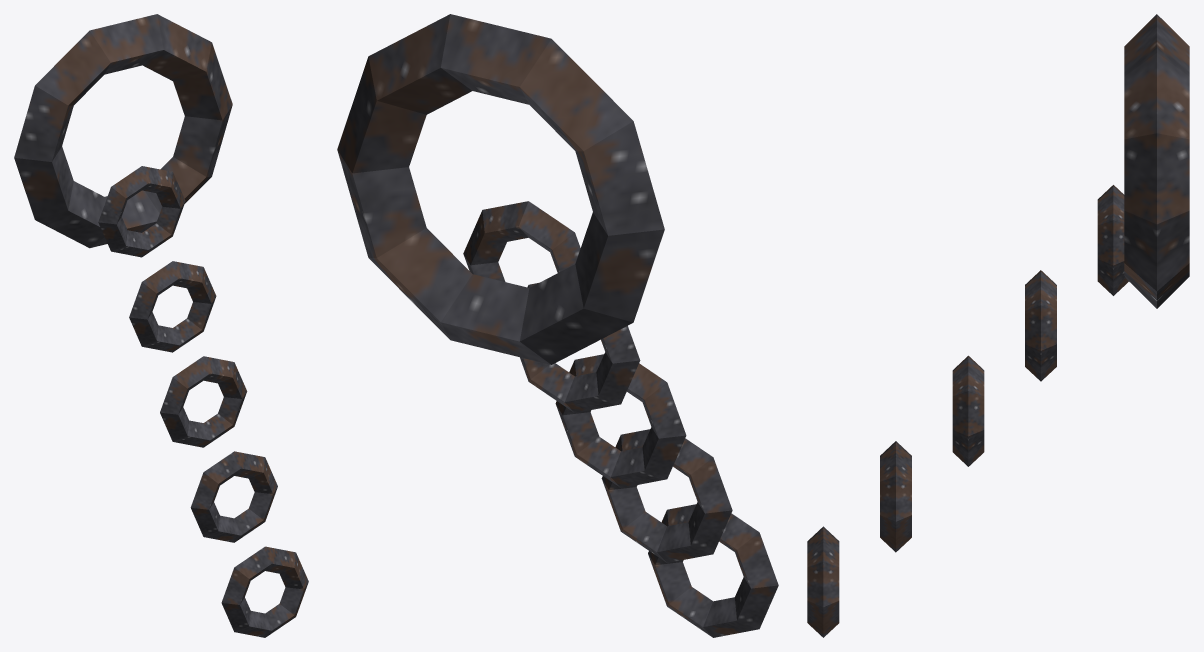
File: rival_wrist_chain.obj
3 views of the same model, side by side, from view 1: azimuth 30°, elevation 25°; view 2: azimuth 150°, elevation 25°; view 3: azimuth 270°, elevation 25° (orthographic). The views are drawn at different scales.
Visible parts, largest first — view 1: rival_wrist_chain; view 2: rival_wrist_chain; view 3: rival_wrist_chain.
Part boxes in pixels (x1,y1,x2,y2): rival_wrist_chain: (14, 14, 308, 637); rival_wrist_chain: (337, 14, 778, 637); rival_wrist_chain: (807, 14, 1189, 637).
Bounding box in the file's own units: 0.2562 × 0.5731 × 0.3294.
